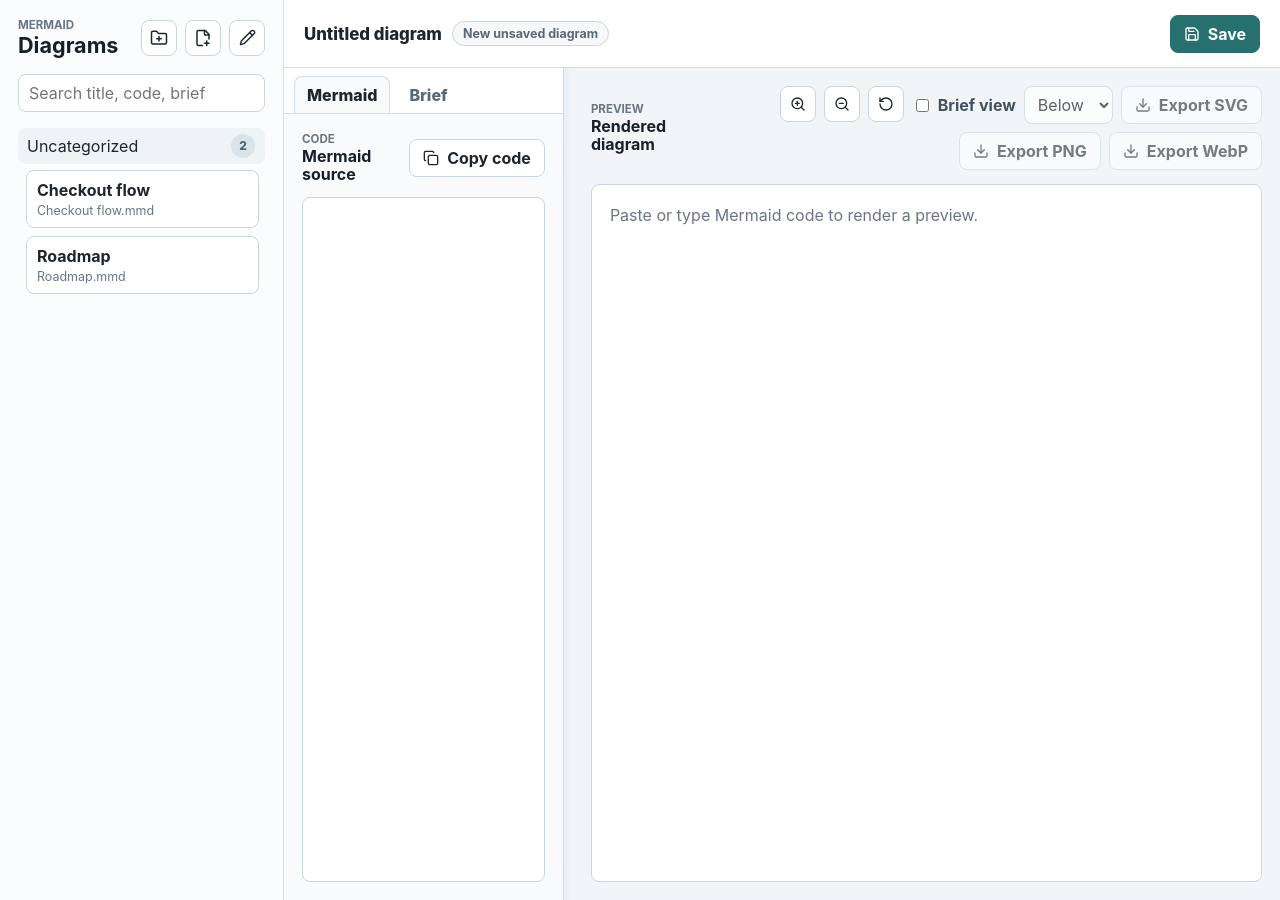
App › creates a sidebar section
Click the button named "new section" at (159, 38), box x1=141 y1=20 x2=177 y2=56
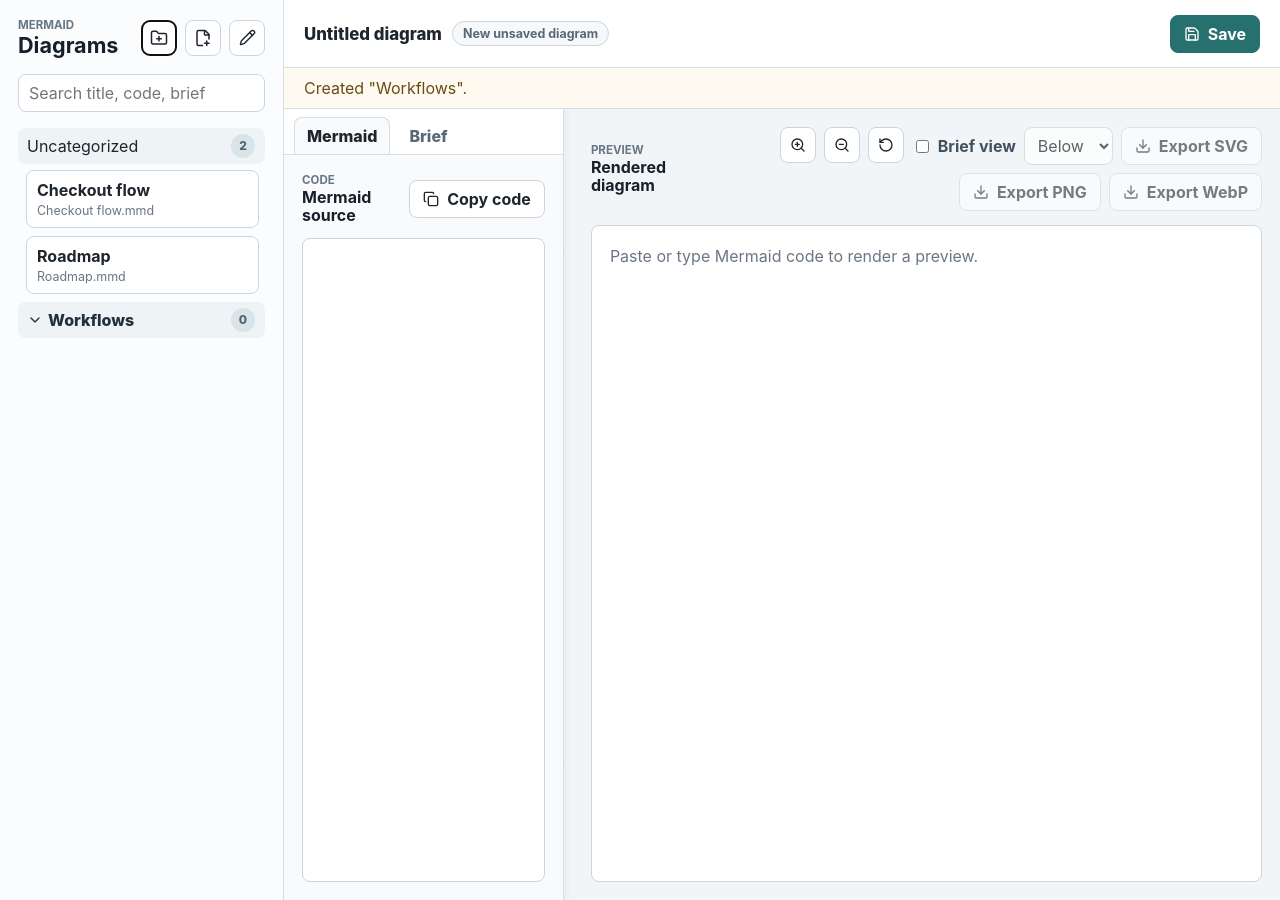
Expected: the text "Workflows" is shown, x1=48 y1=310 x2=134 y2=330
